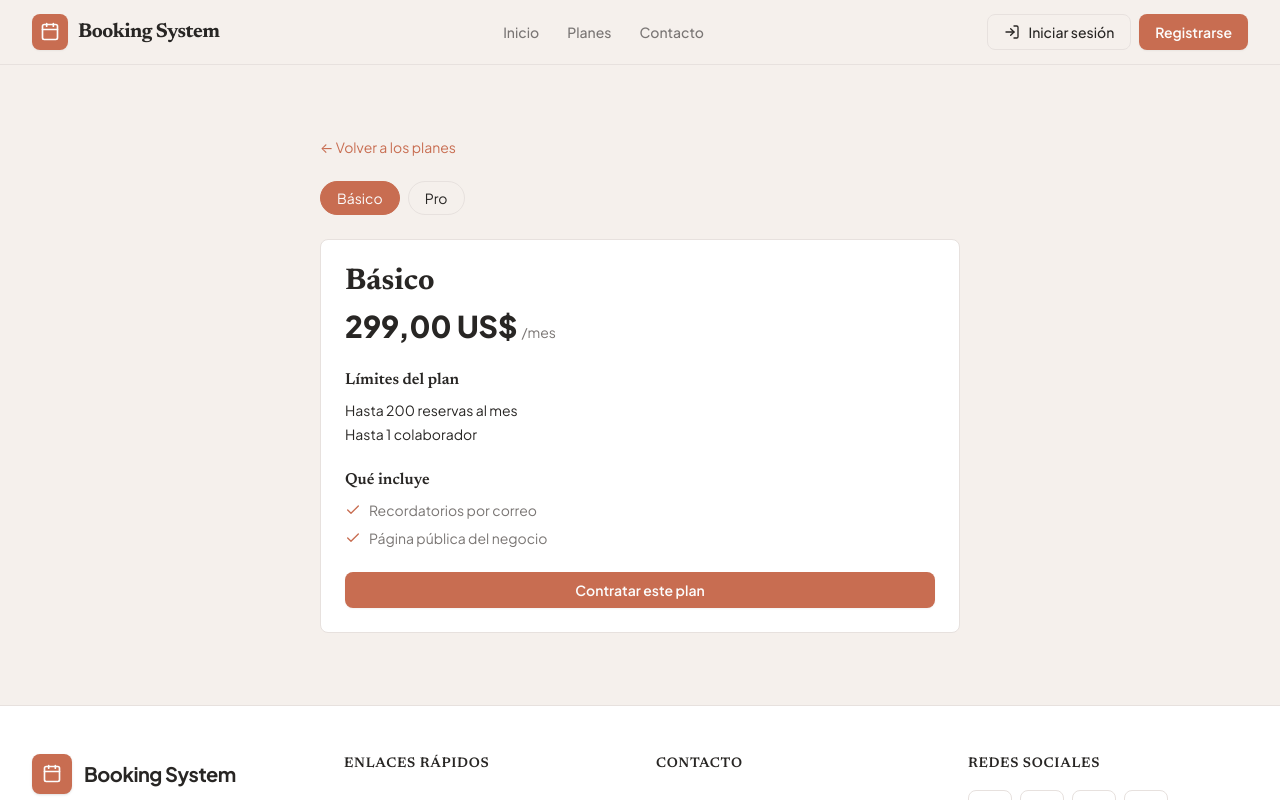
Scenario: PlanDetailPage (KAN-21) › KAN-21: AC-KAN-21-10 stays on the detail with the network error when the plan cannot be checked
Click the button "Contratar este plan" at {"x": 640, "y": 590}, box [345, 572, 935, 608]
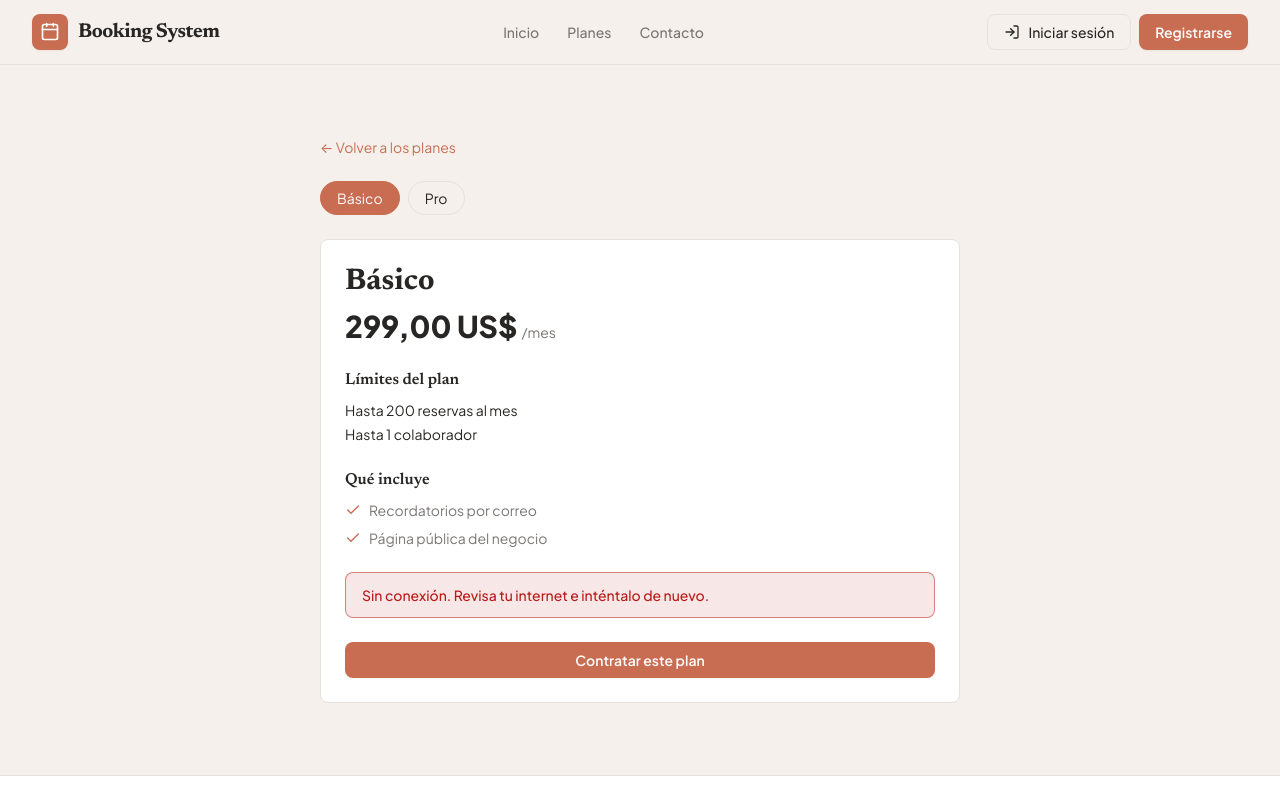
Result: the text "Sin conexión. Revisa tu internet e inténtalo de nuevo." is shown at [362, 586, 709, 604]
